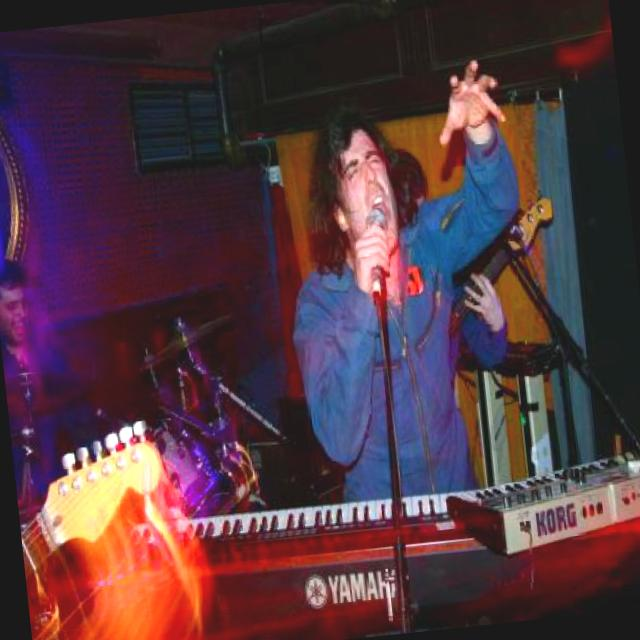Person: (267, 55, 548, 501)
